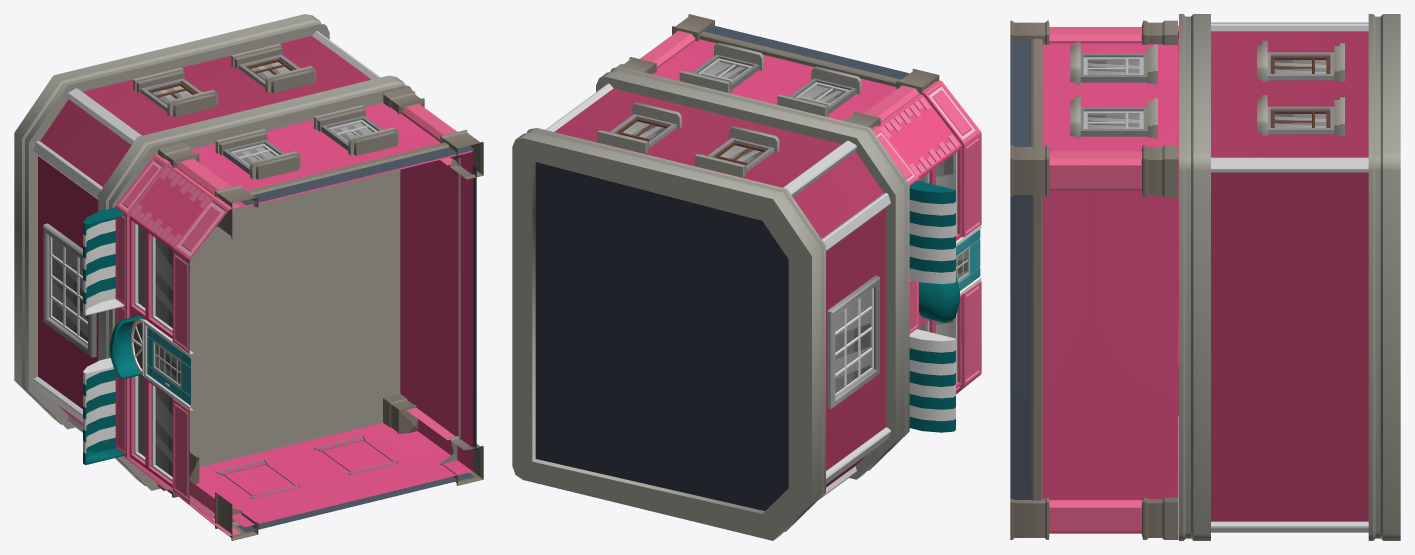
The model's file is Building_3_2_I.glb.
3 renders of one model, left to right at view 1: azimuth 30°, elevation 25°; view 2: azimuth 150°, elevation 25°; view 3: azimuth 270°, elevation 25°, orthographic. The views are drawn at different scales.
Visible parts, largest first — view 1: Building 3_2_I; view 2: Building 3_2_I; view 3: Building 3_2_I.
Part boxes in pixels (<box>): Building 3_2_I: <box>14,14,483,540</box>; Building 3_2_I: <box>512,14,981,540</box>; Building 3_2_I: <box>1010,14,1400,540</box>.
Bounding box in the file's own units: 8.2 × 8.16 × 7.26.
4 materials, 4 textured.
